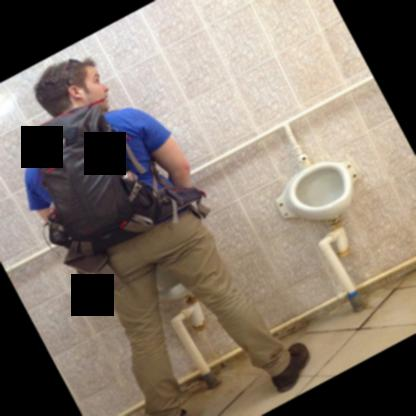backpack: (22, 104, 153, 245)
